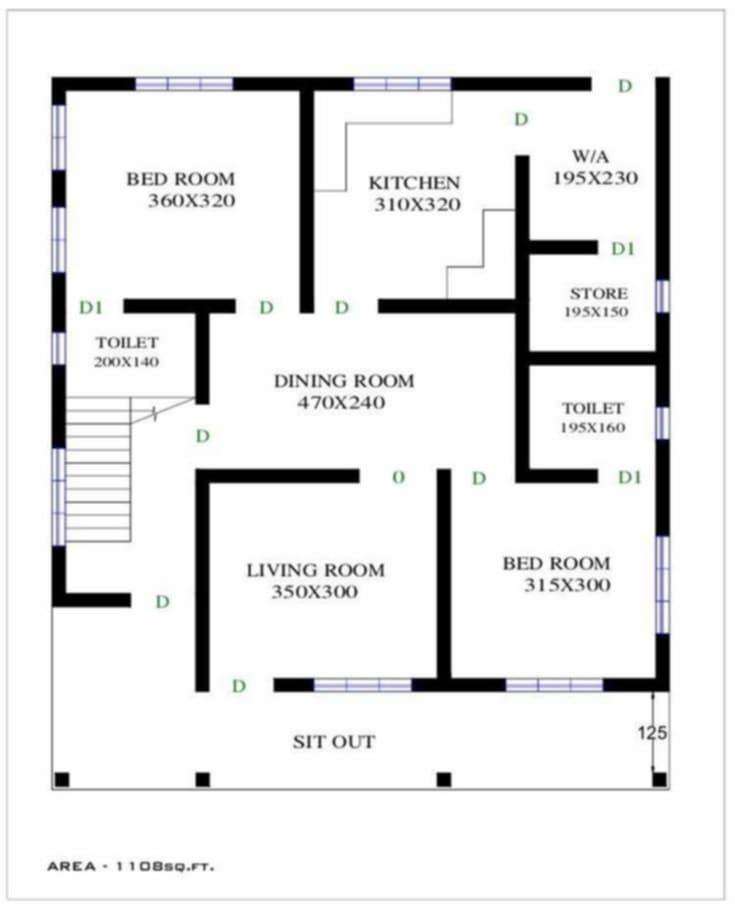Blueprint: (39, 59, 680, 701)
